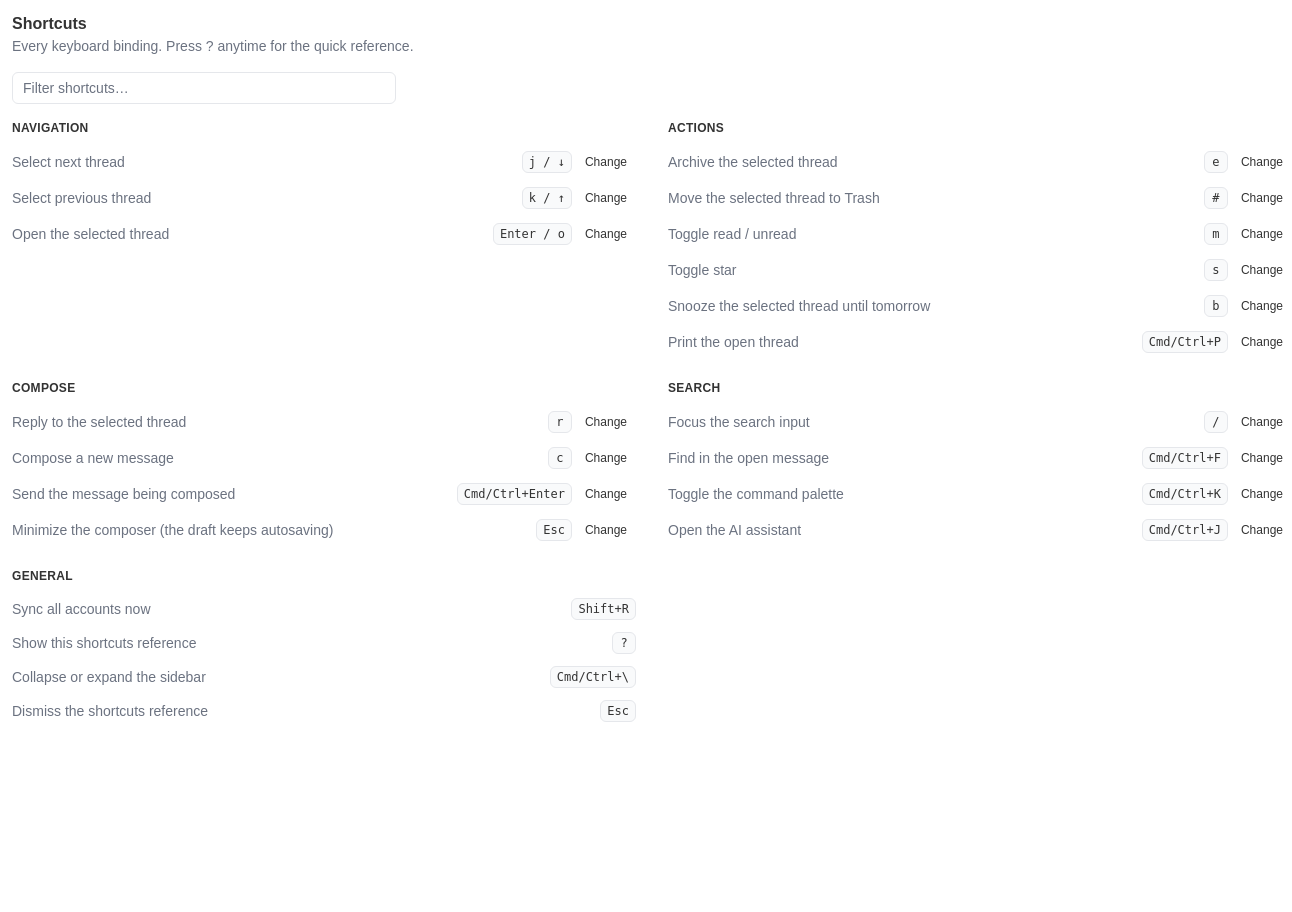
ShortcutsSection — reference table › still filters the table by description and keys
Type "star" into the field labelled "Filter shortcuts" at (204, 88), box [12,72,396,104]
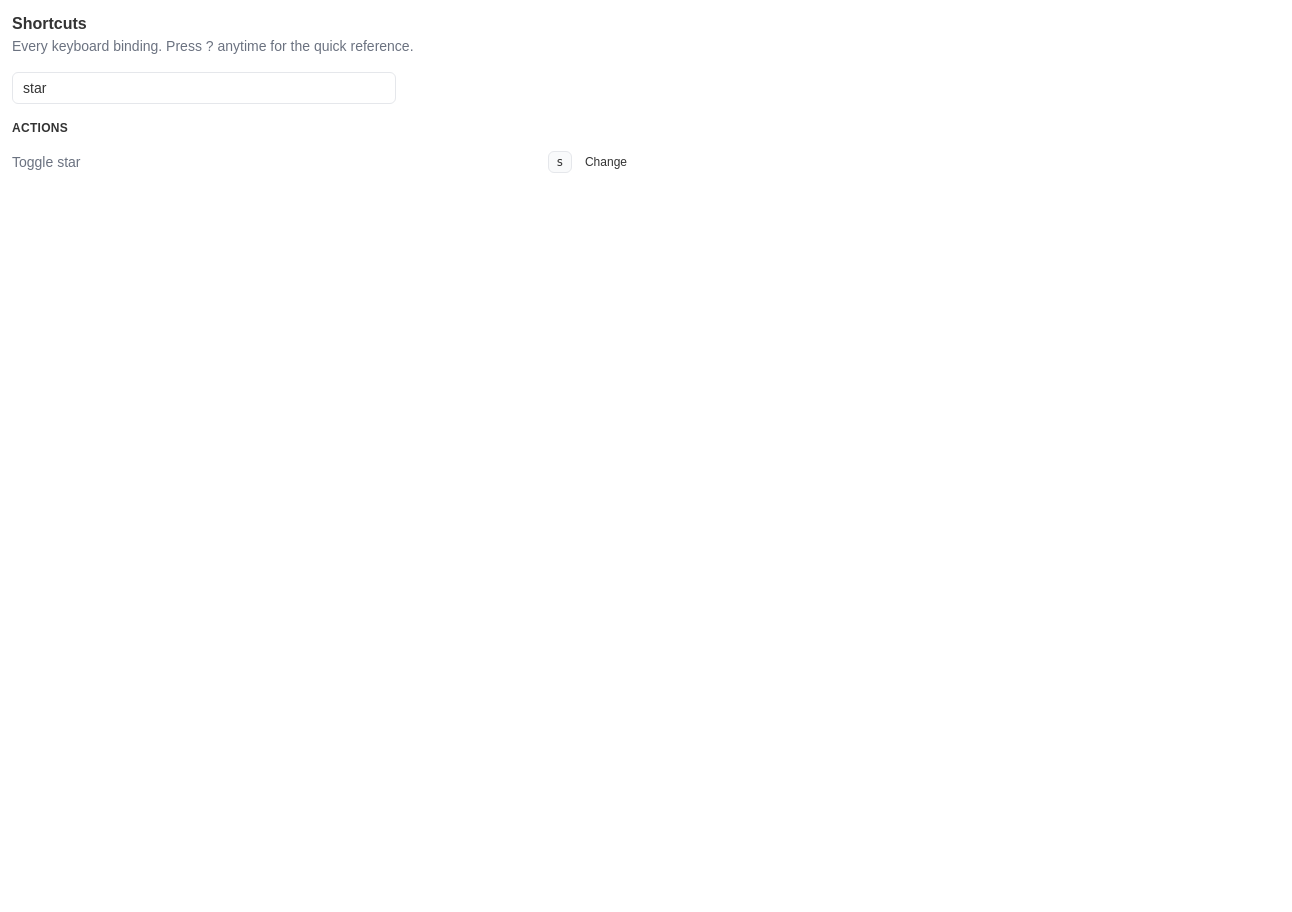
Expected: the element with test id "shortcut-toggle-star" is shown, [12,144,636,180]
Now the element with test id "shortcut-archive" is gone
